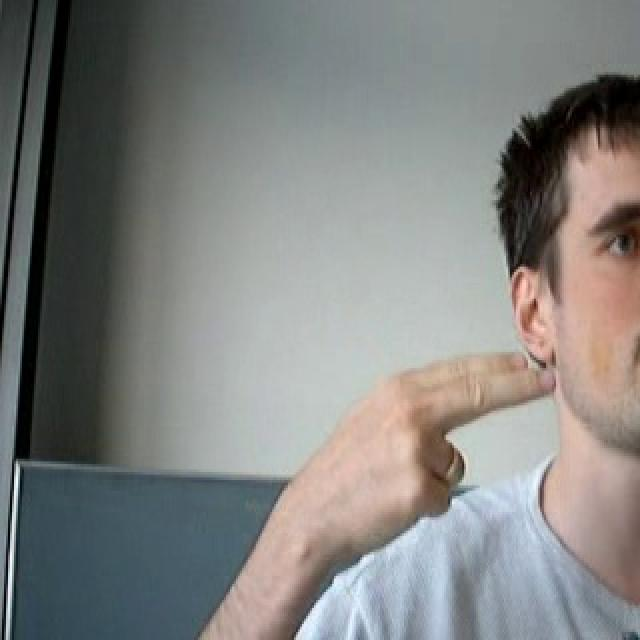G: (276, 311, 563, 561)
